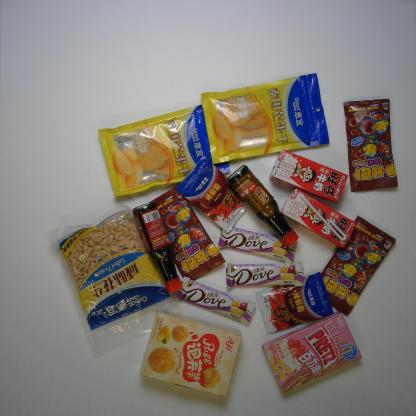Candy: (320, 202, 394, 322), (149, 185, 225, 289), (342, 95, 404, 197)
Chocolate: (178, 278, 257, 326), (216, 228, 300, 263), (223, 261, 303, 291)
Dessert: (134, 306, 260, 406), (262, 315, 373, 396)
Dried Fruit: (41, 208, 172, 327), (97, 103, 213, 205), (200, 80, 334, 163)
Milk: (276, 184, 364, 249), (271, 146, 349, 202)
Seasoner: (223, 159, 300, 257), (128, 200, 186, 298), (254, 270, 338, 334), (178, 153, 246, 230)
